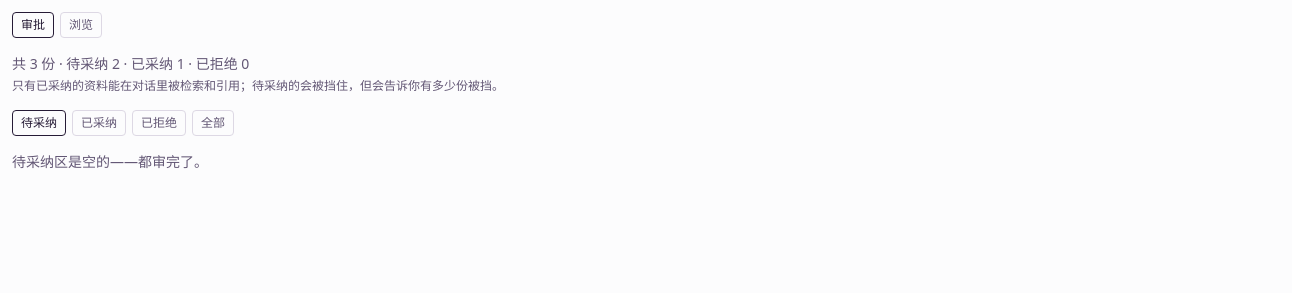
Scenario: TEST-410 资料库审批面板 (REQ-F-220) › ④ 切到「已采纳」时重新取数，并给出撤回判断的入口
Check: the text "待采纳区是空的——都审完了。" is shown, box [12,152,208,171]
Click the button "已采纳".
click(99, 123)  # box [72,110,126,136]
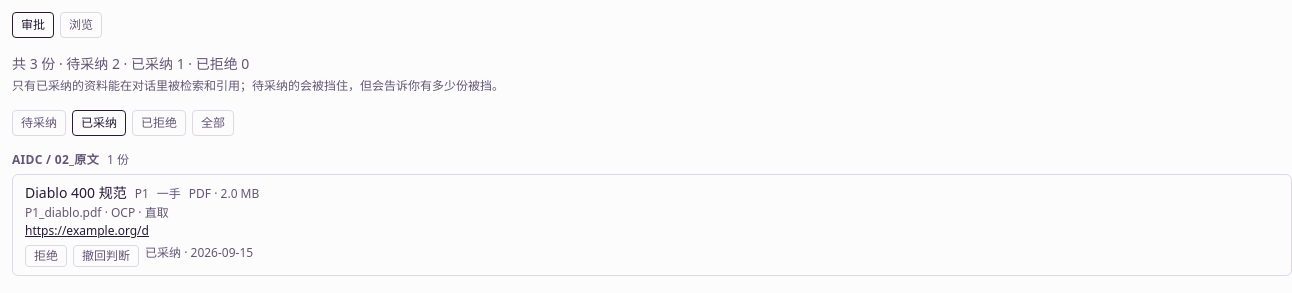
Check: the button "撤回判断" is shown, box [73,245,139,267]
Check: the text "已采纳 · 2026-09-15" is shown, box [145,245,253,267]
